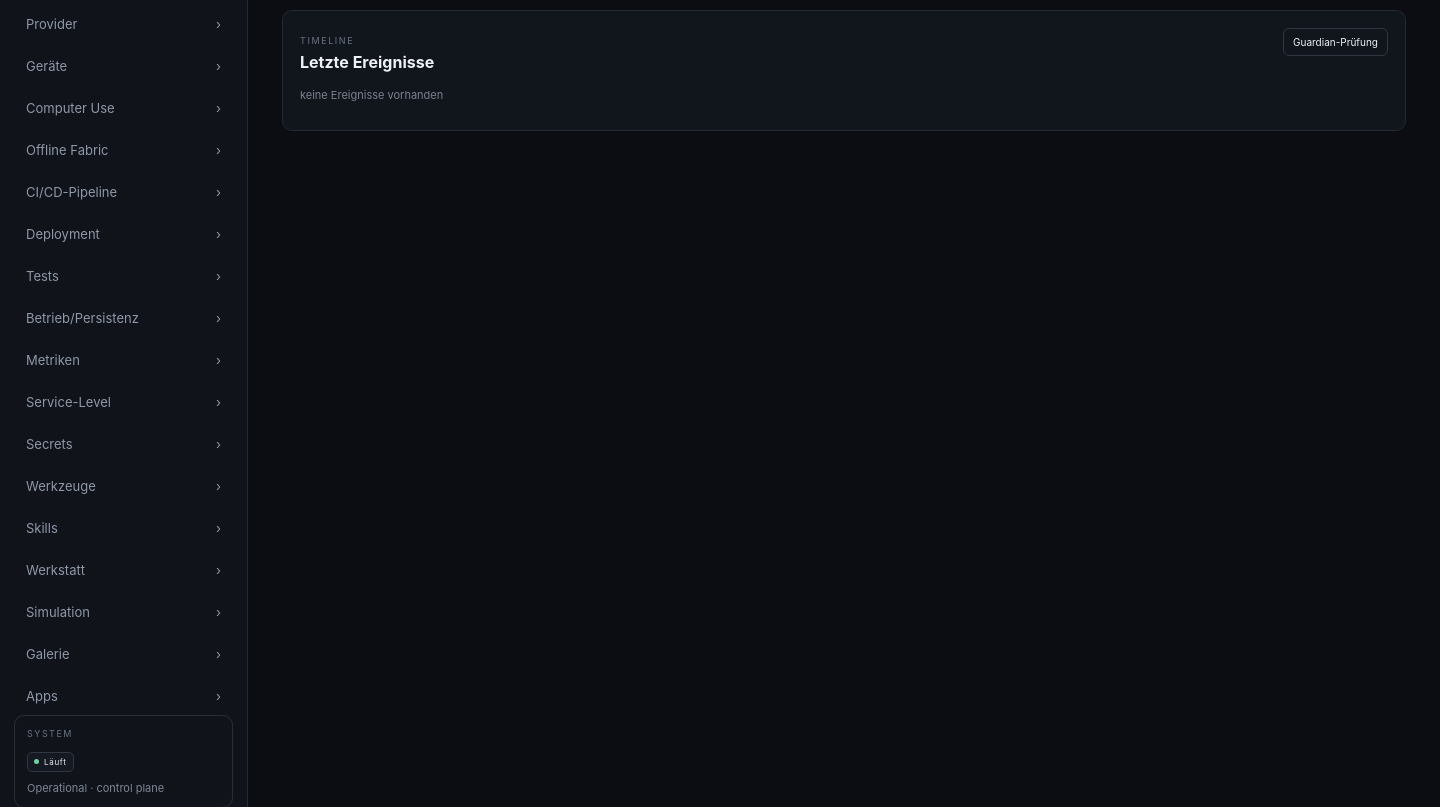
Test case: Control Center Oberfläche › zeigt das Service-Level mit Verletzung und fehlendem Messwert
The image size is (1440, 807).
(page scrolled)
Click the button "Service-Level ›" at (124, 402), box left=14, top=383, right=233, bottom=421
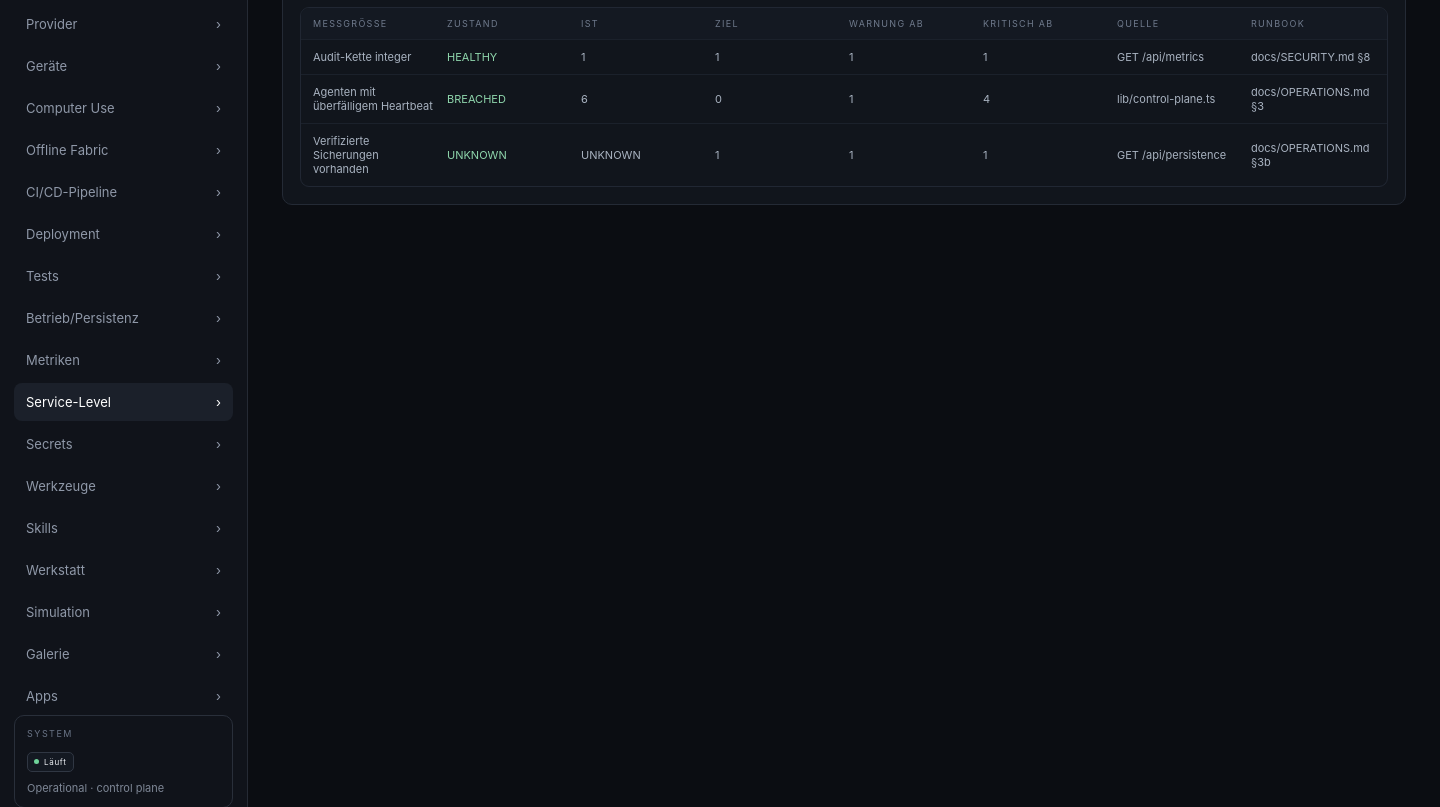
Expected: the text "Agenten mit überfälligem Heartbeat" is shown, left=313, top=85, right=437, bottom=113
Expected: the text "BREACHED" is shown, left=447, top=92, right=506, bottom=106
Expected: the text "UNKNOWN" is shown, left=447, top=148, right=507, bottom=162
